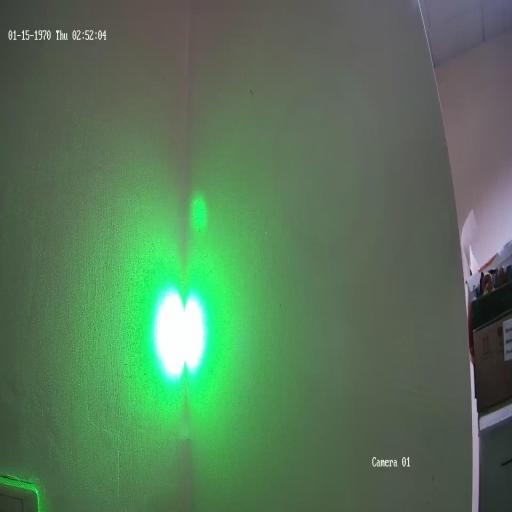laser: (142, 252, 220, 400)
